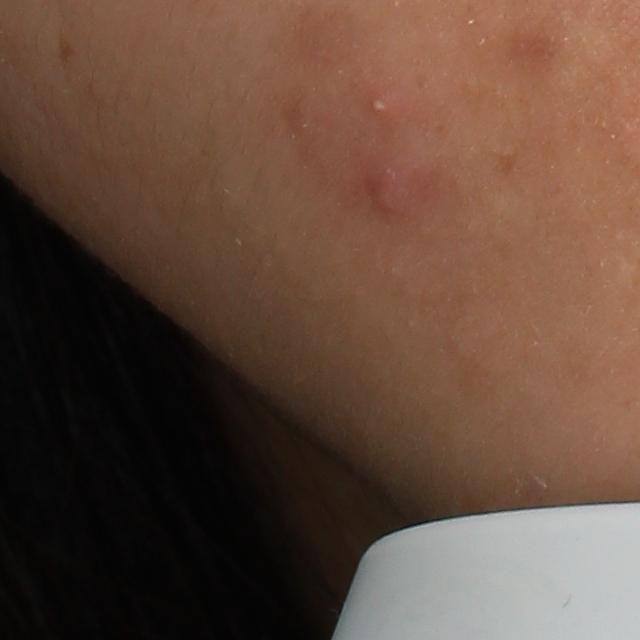papule: (365, 166, 411, 217)
pustule: (363, 89, 398, 121)
